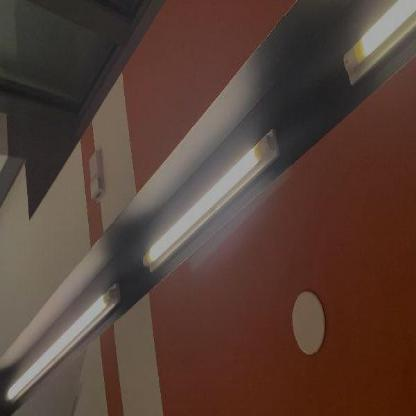light_on: (138, 108, 286, 282), (2, 266, 126, 407), (335, 0, 415, 98)
